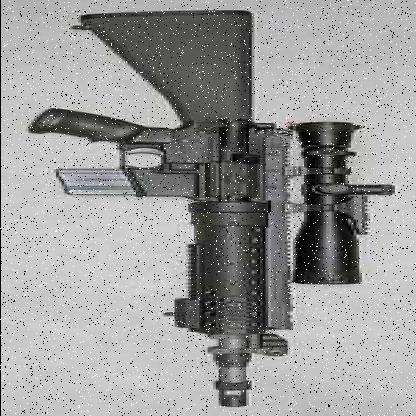rifle: (39, 7, 380, 412)
